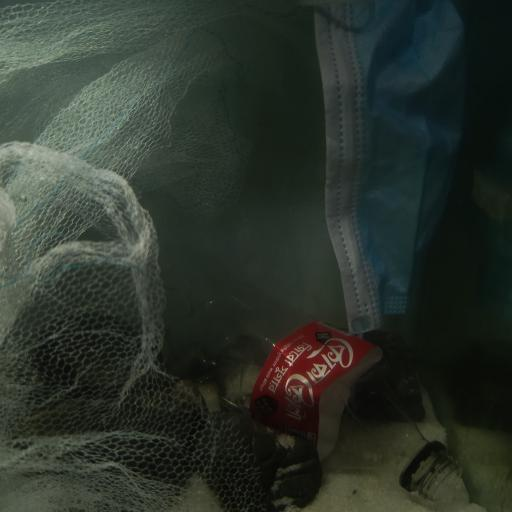mask: (310, 0, 470, 340)
net: (2, 1, 264, 511)
plastic_bottle: (179, 282, 465, 498)
